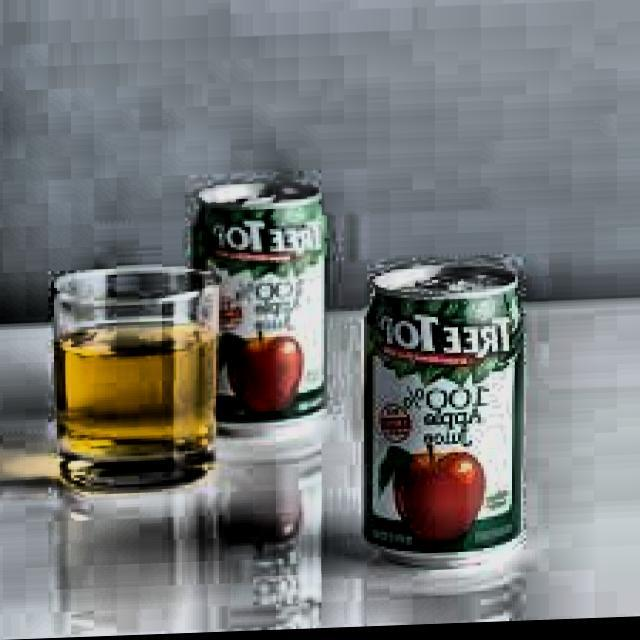litter: (354, 254, 530, 579), (185, 173, 333, 446)
